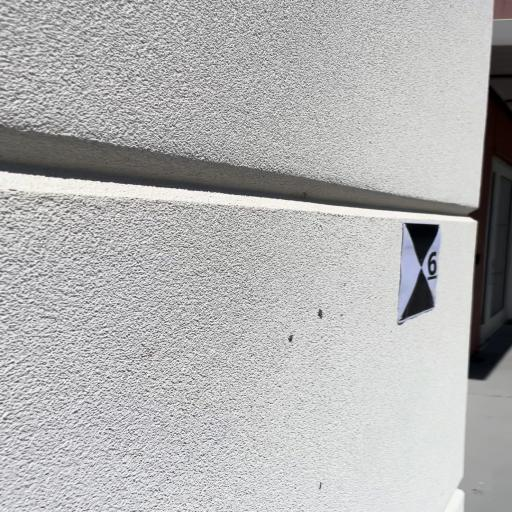target6: (394, 220, 442, 325)
